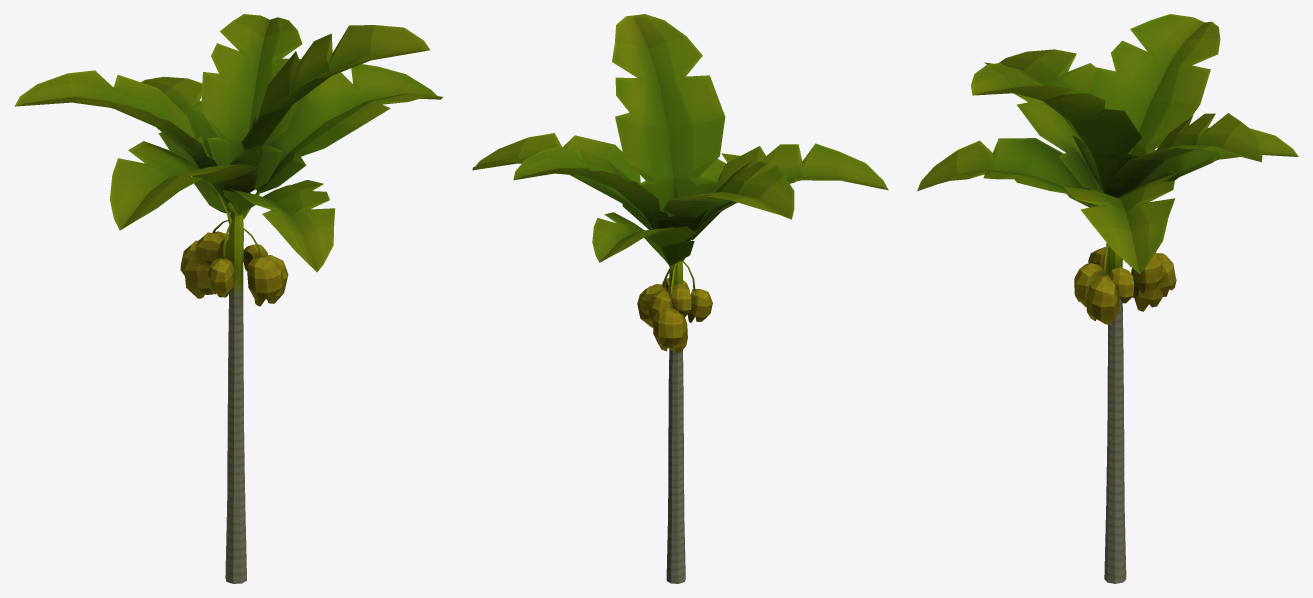
The model's file is tree_palm.glb.
3 renders of one model, left to right at view 1: azimuth 30°, elevation 25°; view 2: azimuth 150°, elevation 25°; view 3: azimuth 270°, elevation 25°, orthographic. The views are drawn at different scales.
Visible parts, largest first — view 1: Node; view 2: Node; view 3: Node.
Boxes of the visible parts, box(x1,y1,x2,y2) form: Node: box(14, 14, 442, 583); Node: box(472, 14, 888, 583); Node: box(917, 14, 1298, 583).
Size of the model in its own units: 14.61 by 19.76 by 12.47.
1 material, 1 textured.
